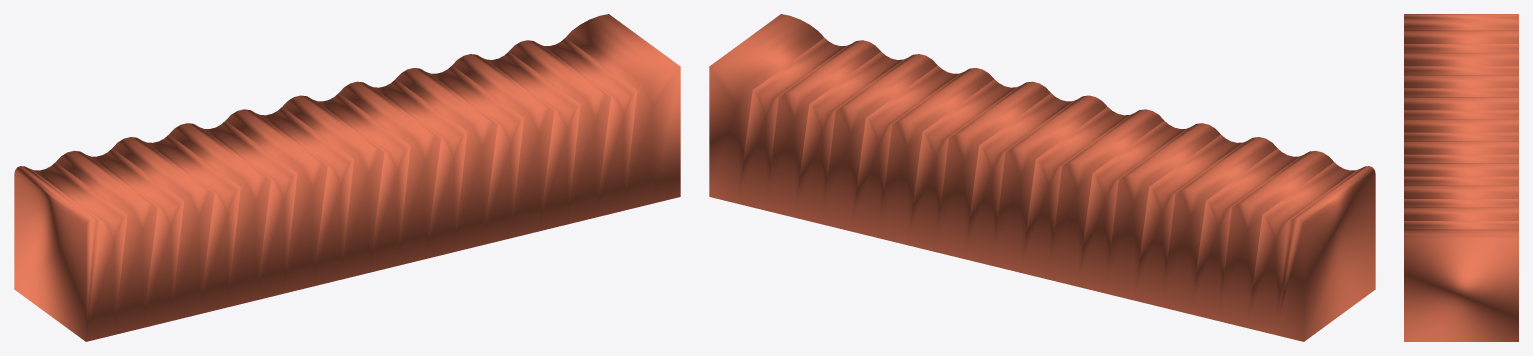
3 renders of one model, left to right at view 1: azimuth 30°, elevation 25°; view 2: azimuth 150°, elevation 25°; view 3: azimuth 270°, elevation 25°, orthographic. The views are drawn at different scales.
Parts seen in each view (by area): view 1: 식빵; view 2: 식빵; view 3: 식빵.
Boxes of the visible parts, x1,y1,x2,y2 form: 식빵: (14, 14, 680, 341); 식빵: (709, 14, 1375, 341); 식빵: (1404, 14, 1518, 341).
Bounding box in the file's own units: 956 × 201 × 200.
